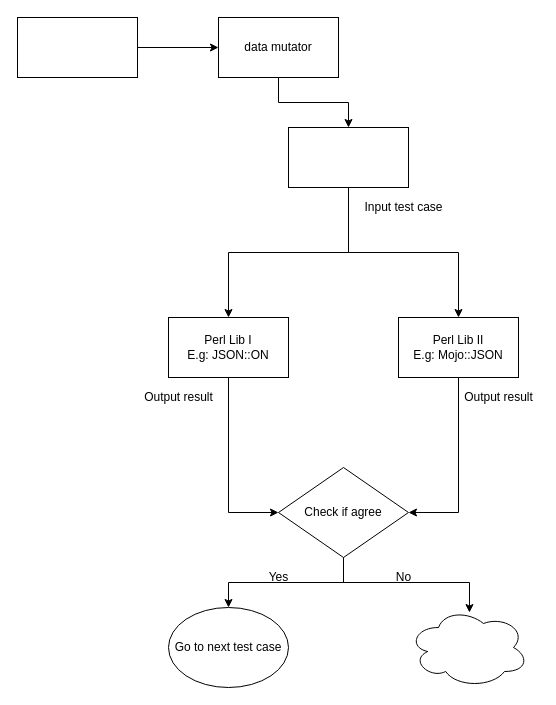
Some shapes in this 556 by 705 pixel diagram are drawn without their labels. The centre of each missing label's shape, as x and y in pixels:
Crash: point (468, 647)
fuzzer.pl: point (348, 157)
seeds: point (77, 47)
